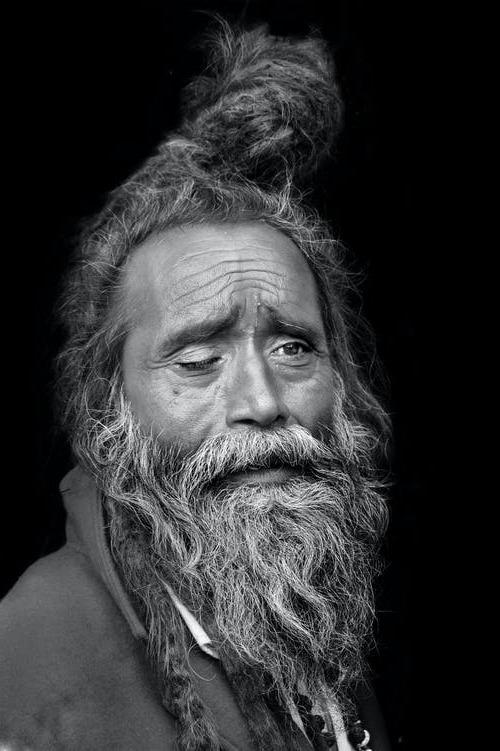Wrinkles: (172, 268, 282, 302), (183, 278, 291, 308), (174, 259, 292, 285), (231, 286, 280, 304), (189, 249, 241, 256), (241, 296, 246, 319)
